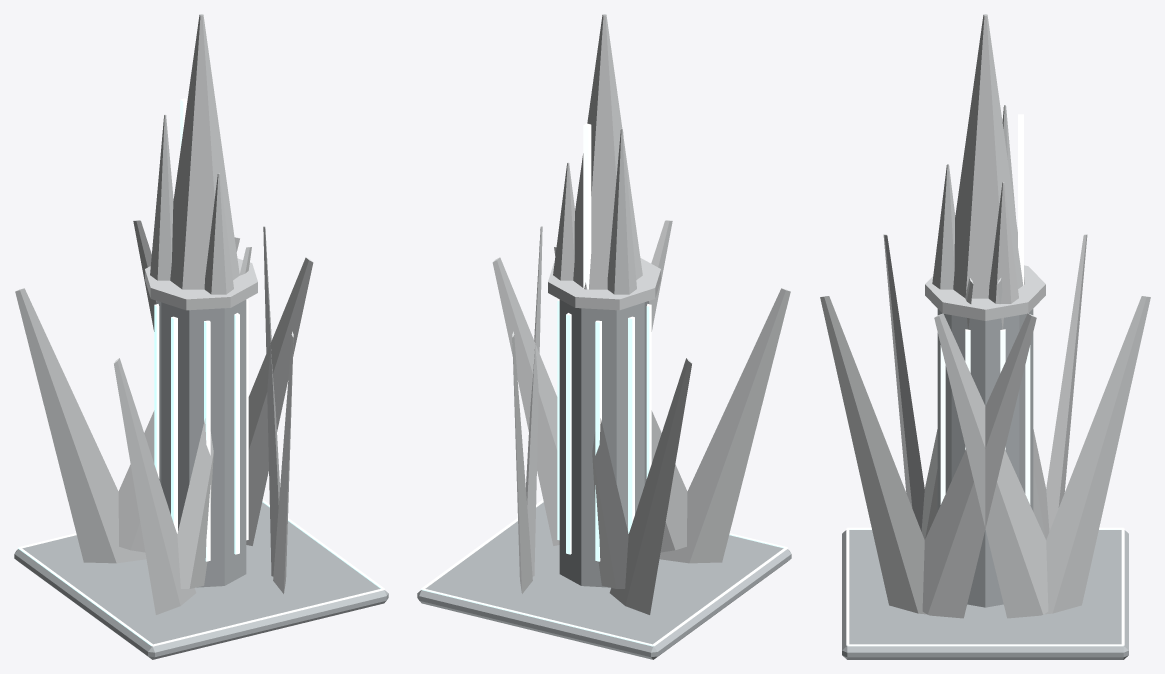
File: zone_high_2.glb
3 renders of one model, left to right at view 1: azimuth 30°, elevation 25°; view 2: azimuth 150°, elevation 25°; view 3: azimuth 270°, elevation 25°, orthographic. The views are drawn at different scales.
Visible parts, largest first — view 1: zone_high_2, detail; view 2: zone_high_2, detail; view 3: zone_high_2, detail.
Part boxes in pixels (x1,y1,x2,y2): zone_high_2: (14,14,388,659); detail: (18,499,384,646); zone_high_2: (417,14,791,659); detail: (421,499,787,646); zone_high_2: (820,14,1150,659); detail: (846,527,1124,646).
Size of the model in its own units: 29.42 by 64.66 by 31.71.
